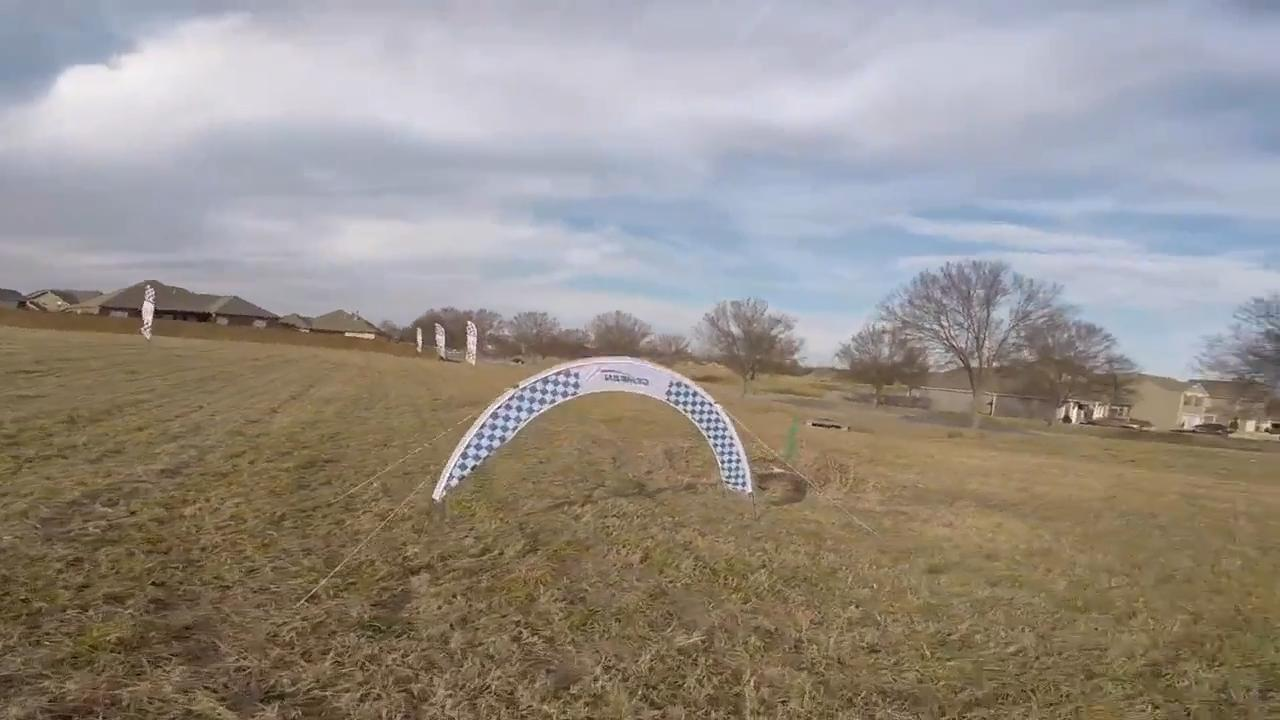gate: (427, 357, 753, 502)
